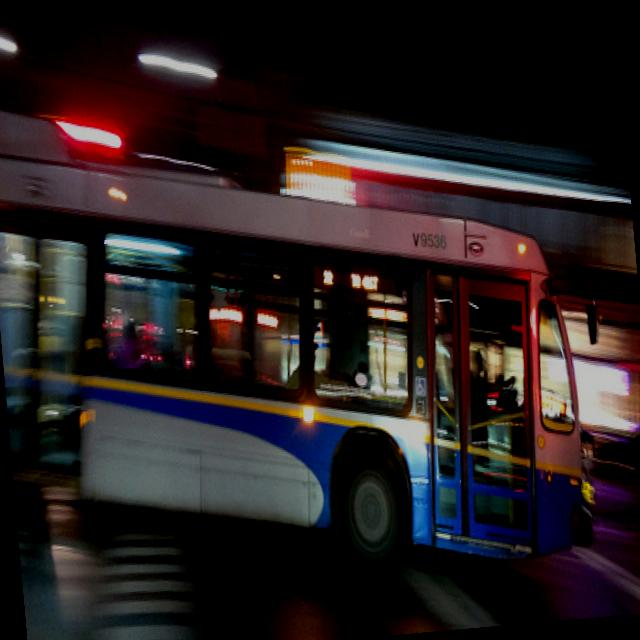Vehicle: (0, 51, 588, 608)
